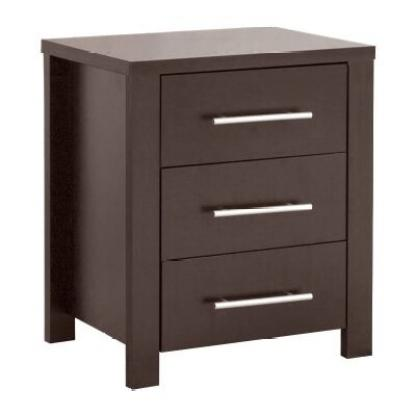Nightstand: (37, 26, 376, 390)
